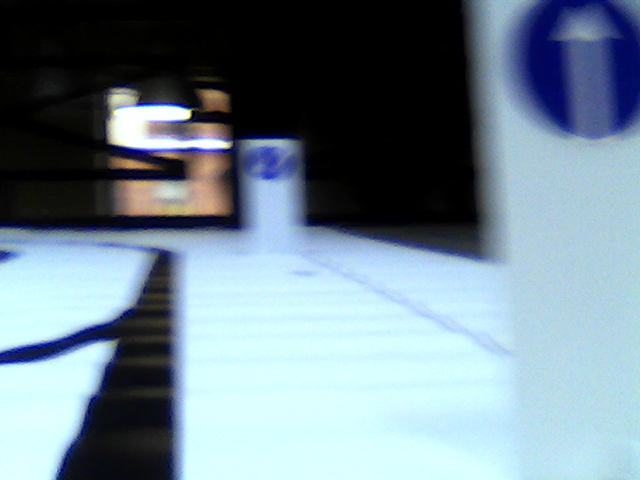forw: (522, 4, 637, 141)
